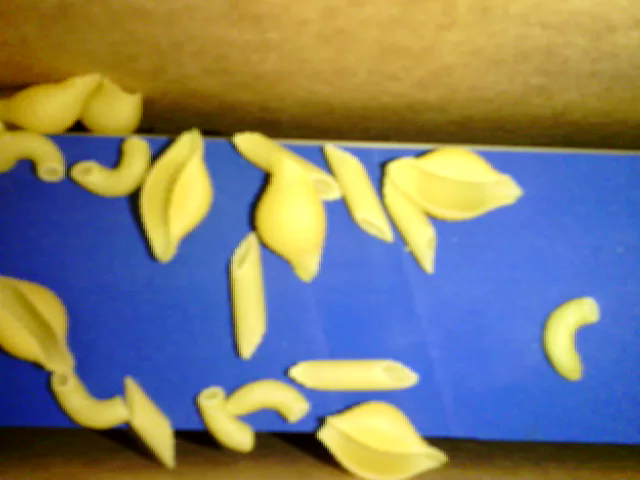elbow: (49, 366, 128, 430), (74, 136, 147, 203), (540, 295, 596, 381), (1, 123, 66, 185), (196, 383, 252, 453), (226, 378, 308, 423)
penne: (230, 128, 339, 204), (325, 132, 391, 240), (383, 164, 437, 275), (225, 230, 267, 359), (117, 377, 177, 467), (285, 359, 426, 396)
shell: (389, 146, 522, 227), (316, 404, 450, 479), (139, 123, 209, 264), (253, 150, 327, 283), (1, 276, 78, 375), (1, 67, 103, 128), (75, 73, 141, 138)
